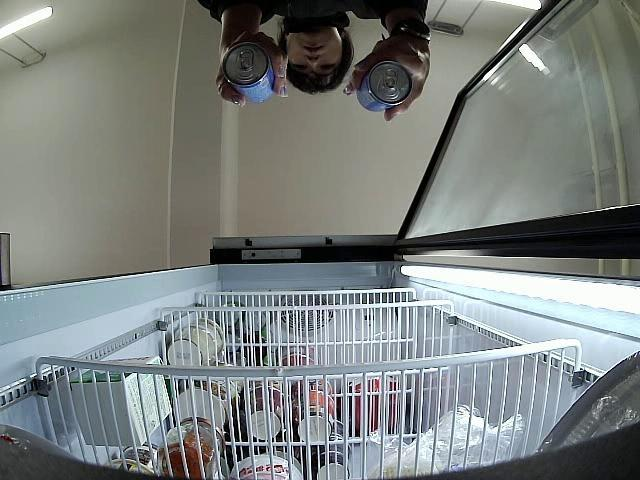15_letsbe: (222, 42, 274, 102), (356, 61, 411, 112)
